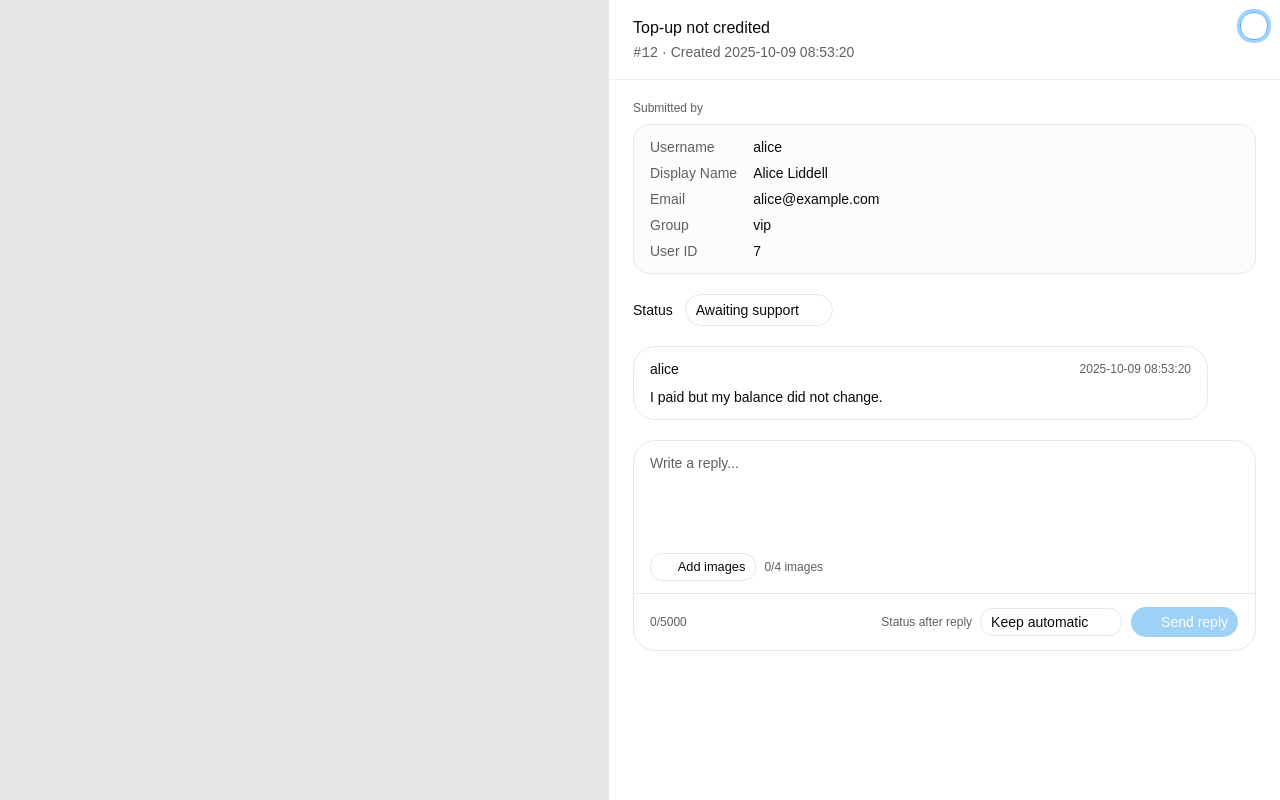
ticket detail sheet › sends the chosen status with the reply and then resets the choice
The width and height of the screenshot is (1280, 800).
Expected: the text "I paid but my balance did not change." is shown, [650, 389, 883, 405]
Select "Resolved" in the dropdown labelled "Status after reply" at (1051, 622), box [980, 608, 1122, 636]
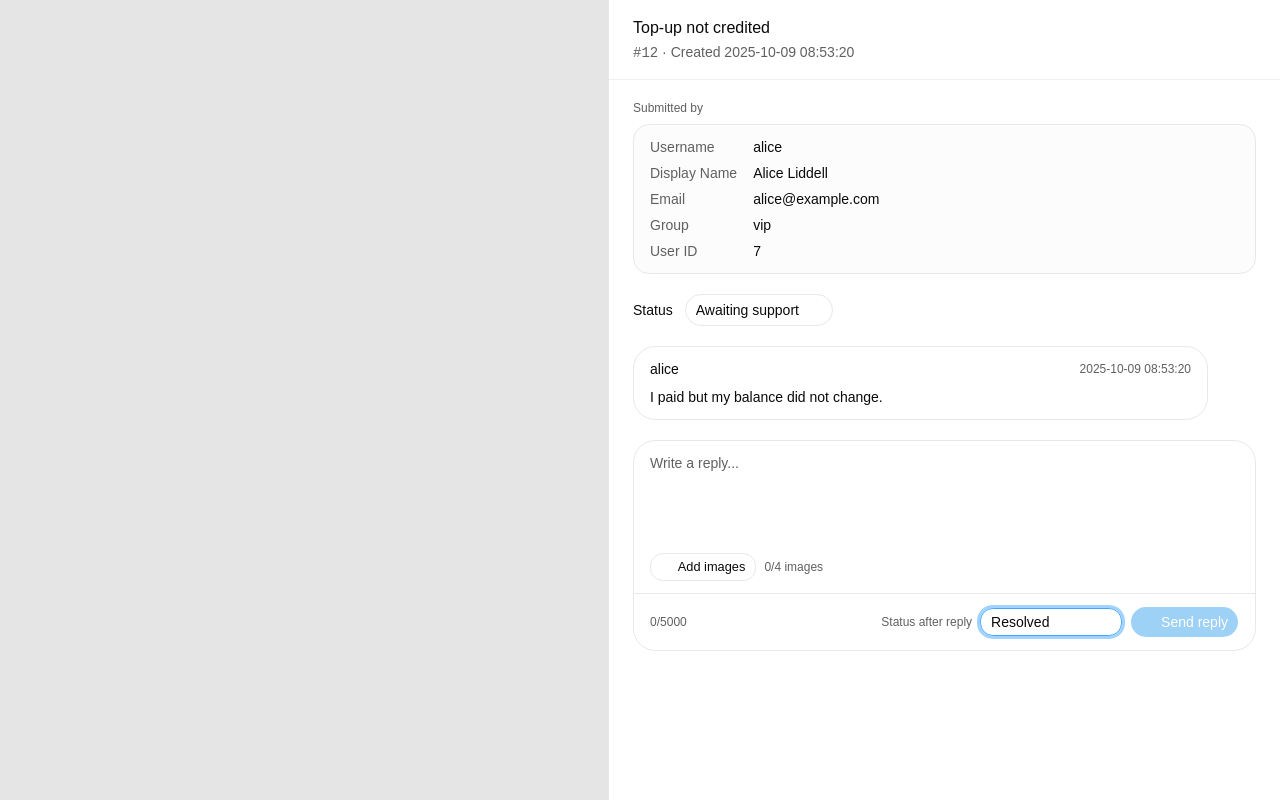
Type "Credited manually." into the text box labelled "reply" at (944, 497), box [634, 441, 1255, 553]
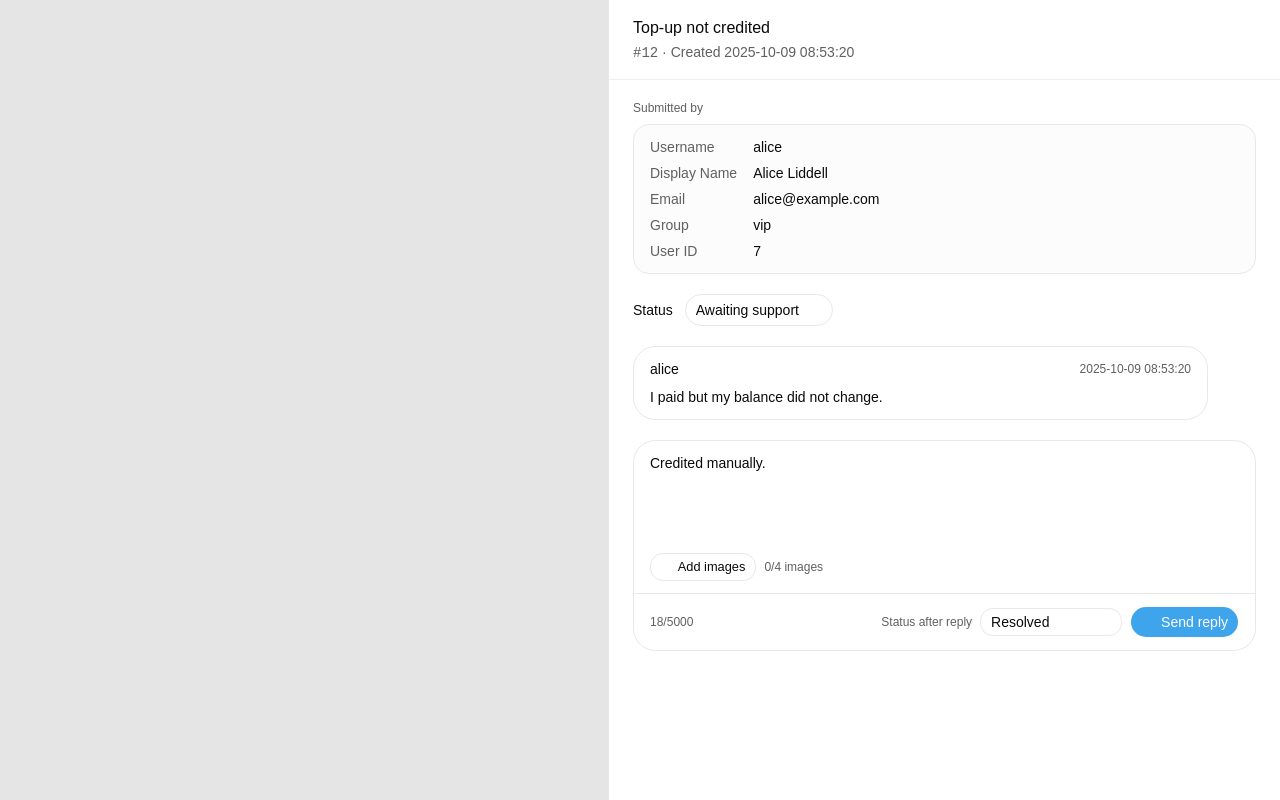
Click the button "Send reply" at (1185, 622), box [1130, 606, 1239, 638]
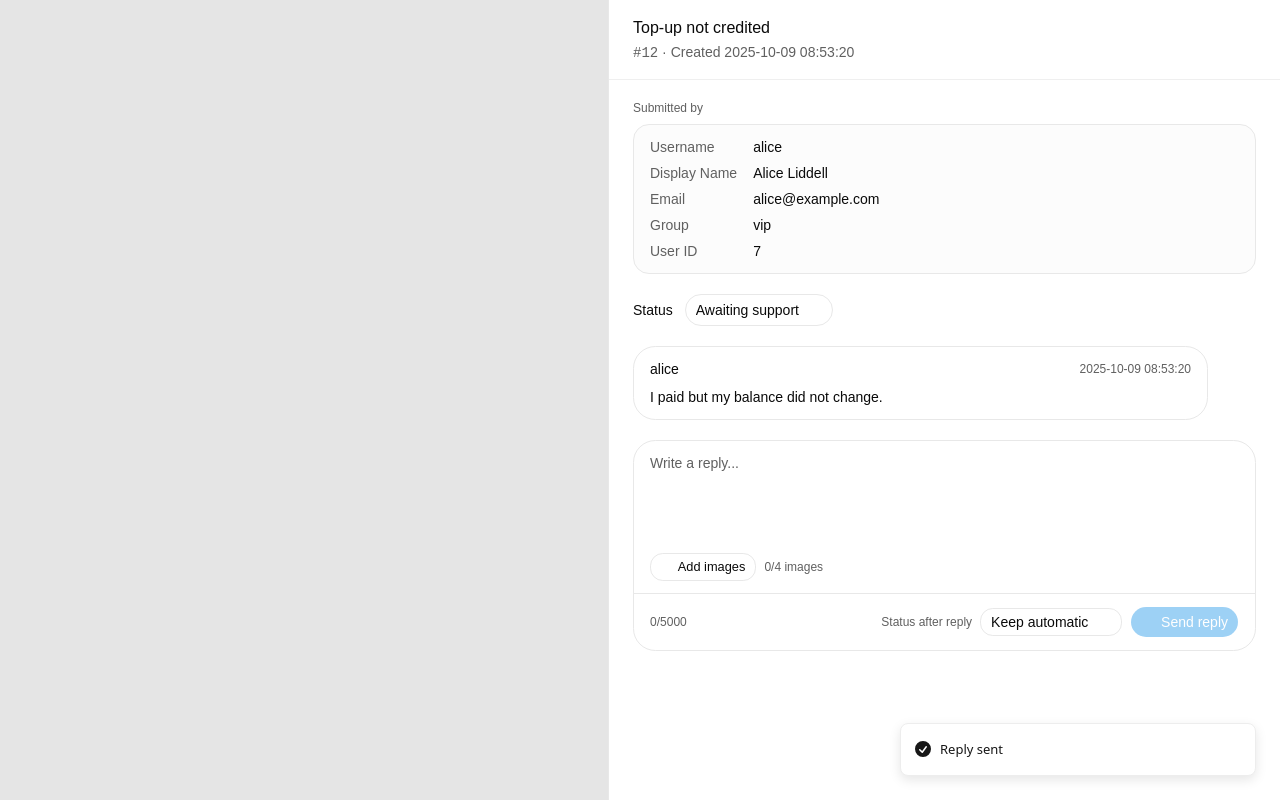
Result: the text "Reply sent" is shown at [940, 740, 1003, 759]
